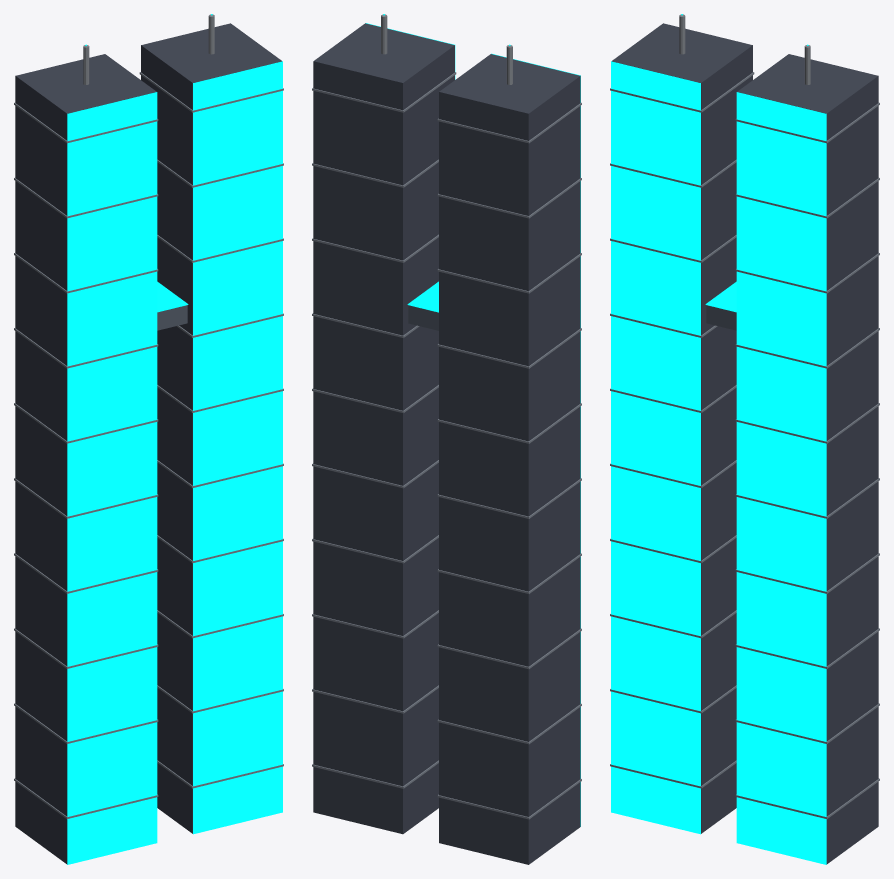
File: CORP_BLD_TwinTower_LG.glb
3 views of the same model, side by side, from view 1: azimuth 30°, elevation 25°; view 2: azimuth 150°, elevation 25°; view 3: azimuth 330°, elevation 25° (orthographic).
Visible parts, largest first — view 1: CORP_BLD_TwinTower_LG; view 2: CORP_BLD_TwinTower_LG; view 3: CORP_BLD_TwinTower_LG.
Part boxes in pixels (bbox=[...]): CORP_BLD_TwinTower_LG: bbox=[14, 14, 283, 864]; CORP_BLD_TwinTower_LG: bbox=[312, 14, 581, 864]; CORP_BLD_TwinTower_LG: bbox=[610, 14, 879, 864].
Size of the model in its own units: 24.2 by 84.14 by 10.2.
